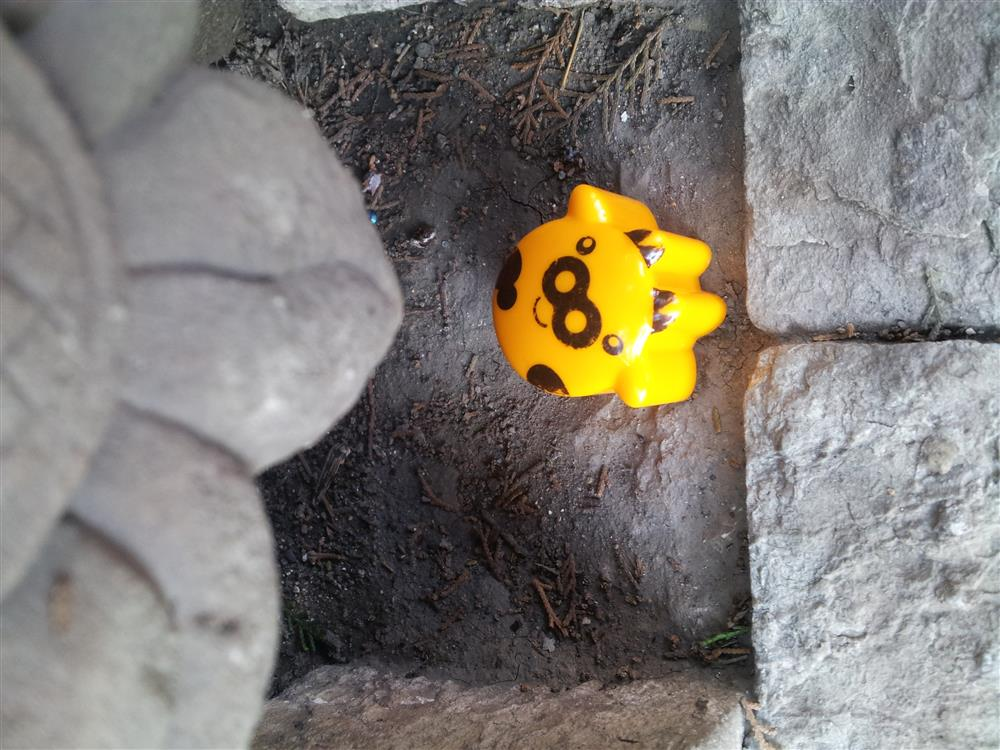toy_cow: (487, 184, 730, 427)
